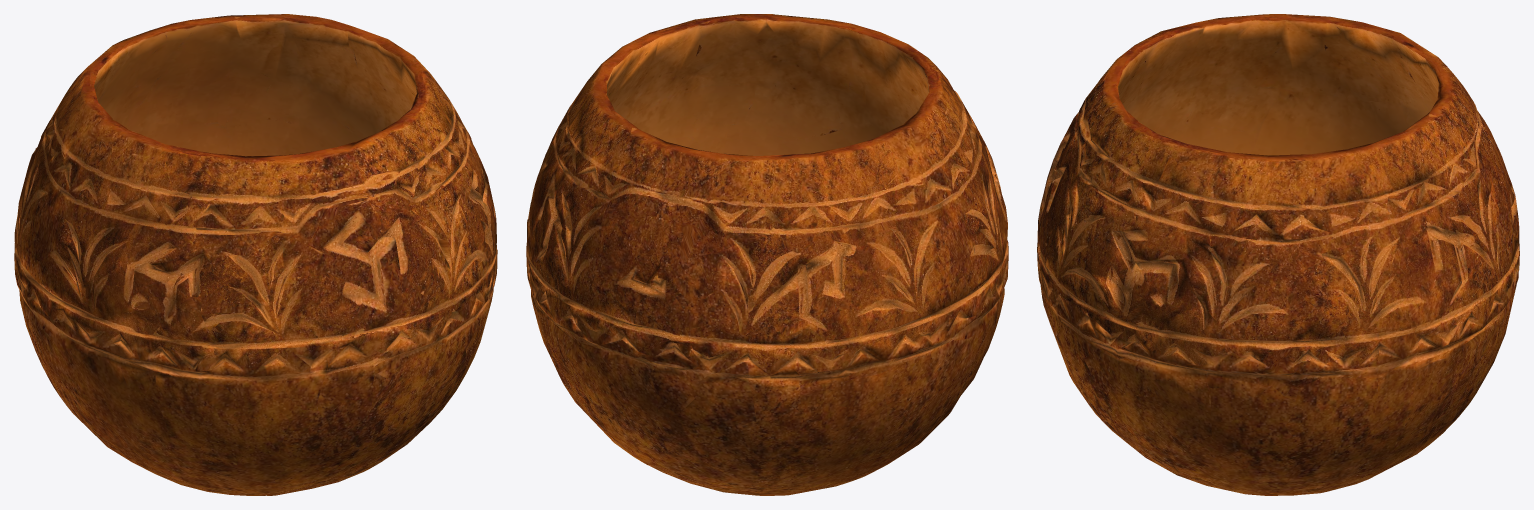
Rendered from carved-earthen-vessel.glb.
The picture shows the model from 3 angles, left to right: view 1: azimuth 30°, elevation 25°; view 2: azimuth 150°, elevation 25°; view 3: azimuth 270°, elevation 25°; orthographic projection.
Size of the model in its own units: 1.9 by 1.6 by 1.9.
Materials: 1 (1 with a texture image).
